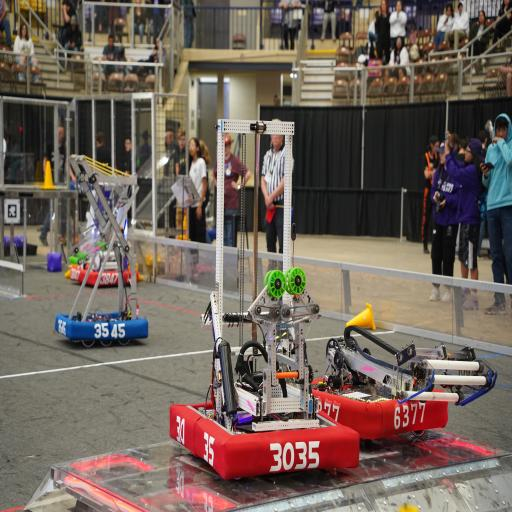robot: (163, 292, 469, 473), (64, 166, 143, 293), (76, 192, 137, 304), (57, 276, 146, 347)
